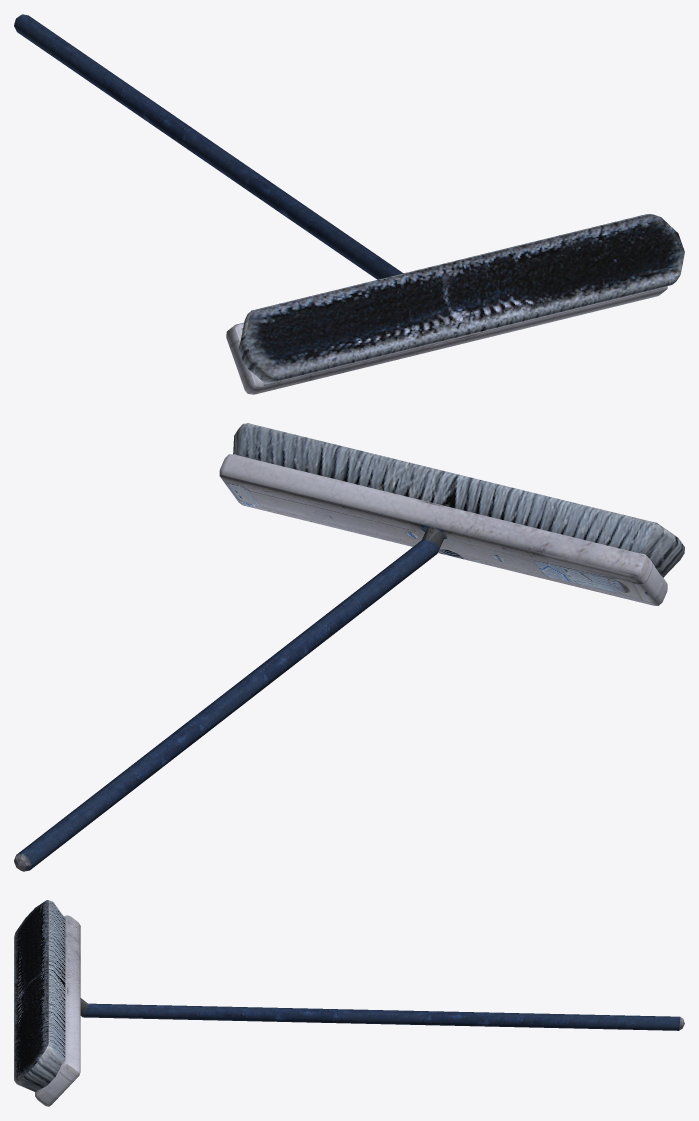
File: broom-3.FBX
3 views of the same model, one above another, from view 1: azimuth 30°, elevation 25°; view 2: azimuth 150°, elevation 25°; view 3: azimuth 270°, elevation 25° (orthographic). The views are drawn at different scales.
Visible parts, largest first — view 1: broom-3_LOD0; view 2: broom-3_LOD0; view 3: broom-3_LOD0.
Boxes of the visible parts, x1=… form: broom-3_LOD0: x1=14, y1=14, x2=684, y2=394; broom-3_LOD0: x1=14, y1=423, x2=684, y2=871; broom-3_LOD0: x1=14, y1=900, x2=684, y2=1106.
Size of what is drawn, in the model's own units: 32 by 5.77 by 57.36.
